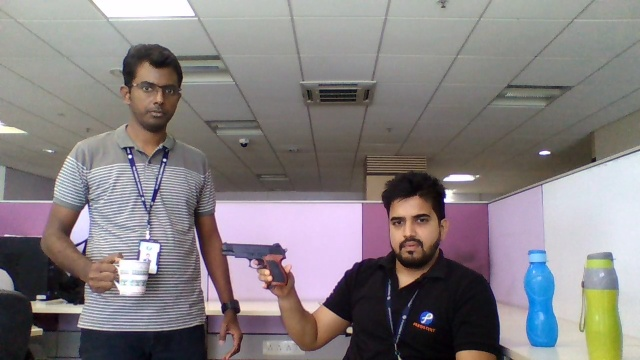gun: (222, 242, 286, 265)
